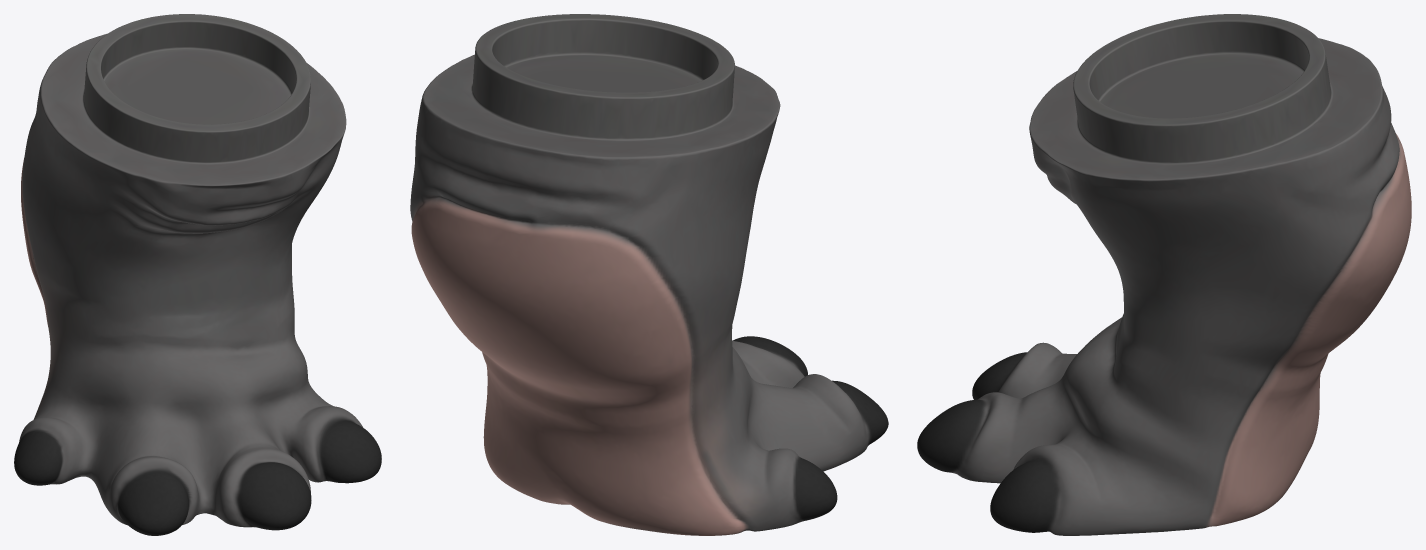
Rendered from Patte_Hippopotame_rg.glb.
The picture shows the model from 3 angles, left to right: view 1: azimuth 30°, elevation 25°; view 2: azimuth 150°, elevation 25°; view 3: azimuth 270°, elevation 25°; orthographic projection. The views are drawn at different scales.
Visible parts, largest first — view 1: Patte_Hippopotame_rg; view 2: Patte_Hippopotame_rg; view 3: Patte_Hippopotame_rg.
Boxes of the visible parts, x1=… form: Patte_Hippopotame_rg: x1=14, y1=14, x2=381, y2=535; Patte_Hippopotame_rg: x1=410, y1=14, x2=888, y2=535; Patte_Hippopotame_rg: x1=917, y1=14, x2=1411, y2=535.
Bounding box in the file's own units: 1.99 × 2.27 × 2.41.
